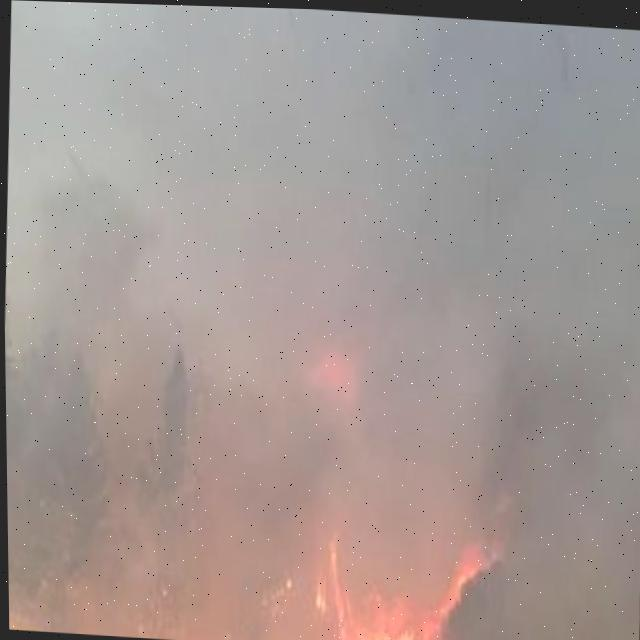fire: (318, 535, 496, 640)
smoke: (4, 0, 640, 640)
